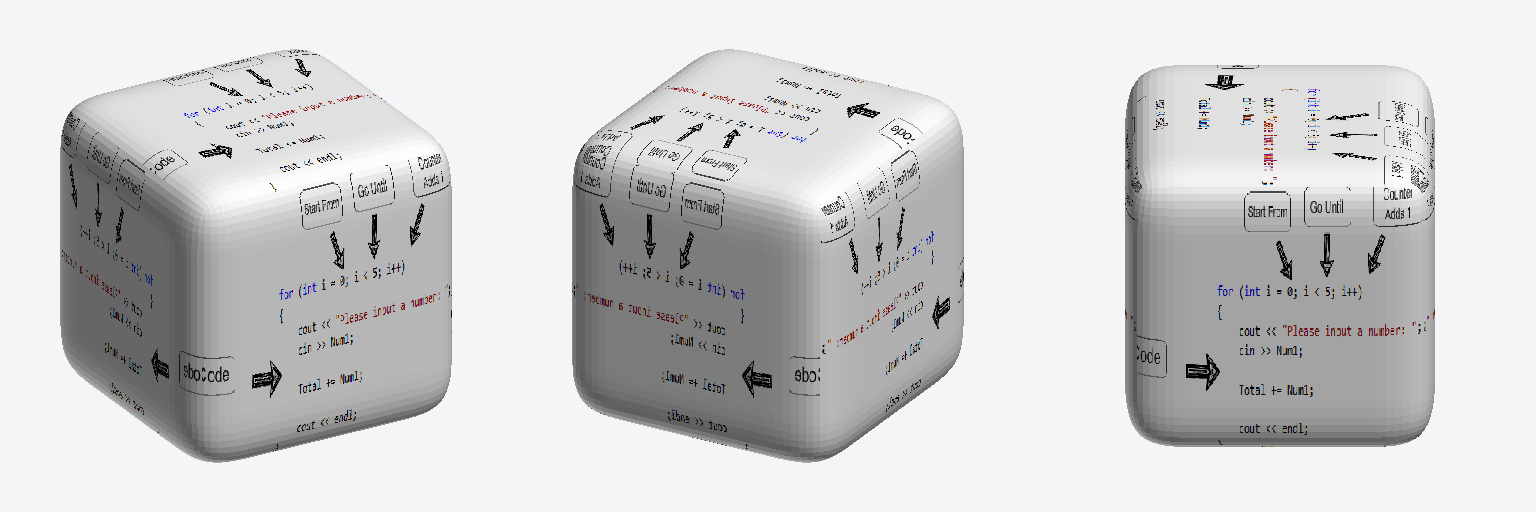
3 views of the same model, side by side, from view 1: azimuth 30°, elevation 25°; view 2: azimuth 150°, elevation 25°; view 3: azimuth 270°, elevation 25° (orthographic).
Visible parts, largest first — view 1: Cube_Cube.002; view 2: Cube_Cube.002; view 3: Cube_Cube.002.
Part boxes in pixels (x1,y1,x2,y2): Cube_Cube.002: (60, 49, 451, 462); Cube_Cube.002: (572, 49, 963, 462); Cube_Cube.002: (1125, 65, 1434, 446).
Size of the model in its own units: 2 by 2 by 2.
Materials: 1 (1 with a texture image).